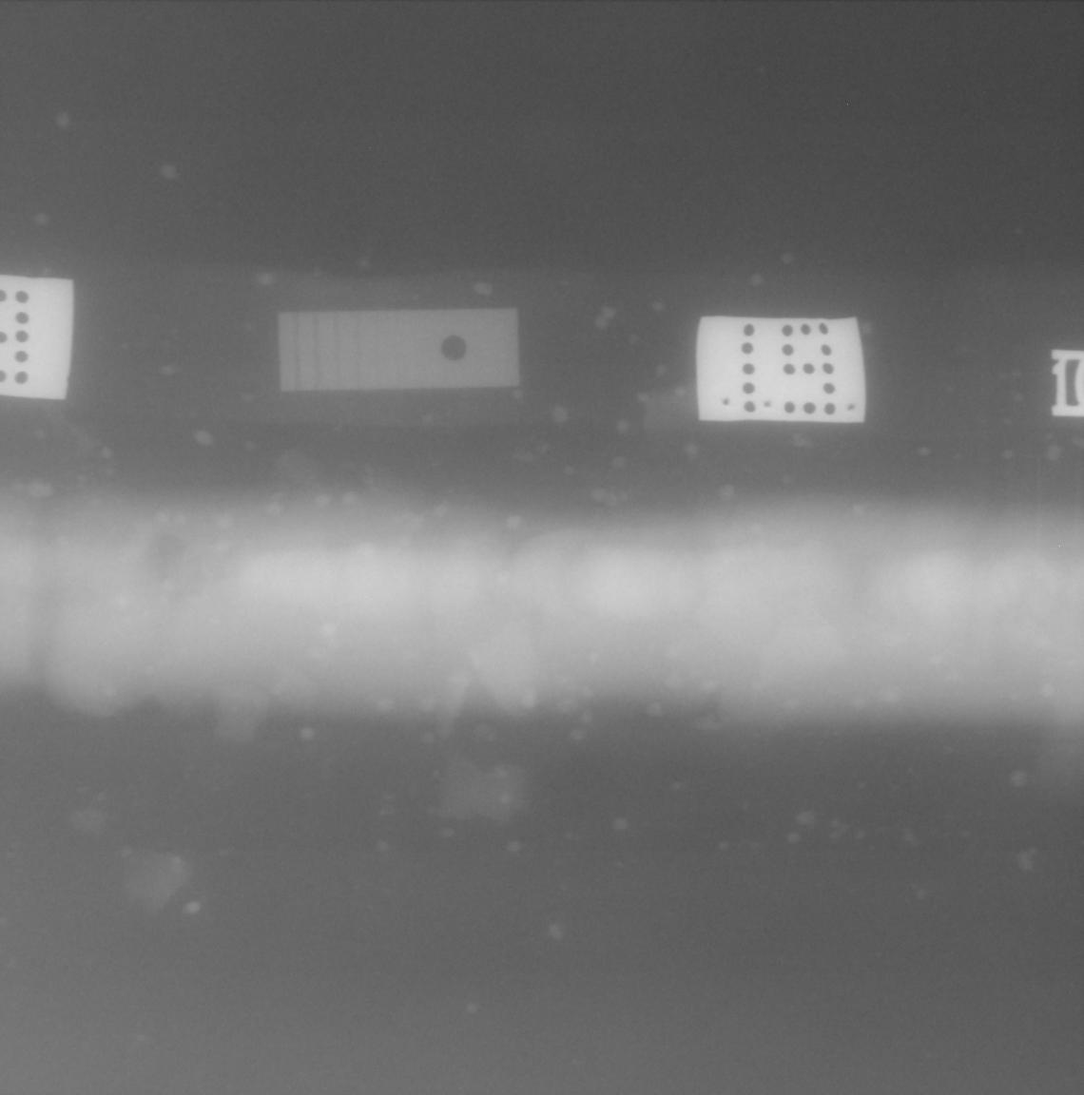Reference Standard 1: (278, 308, 519, 391)
